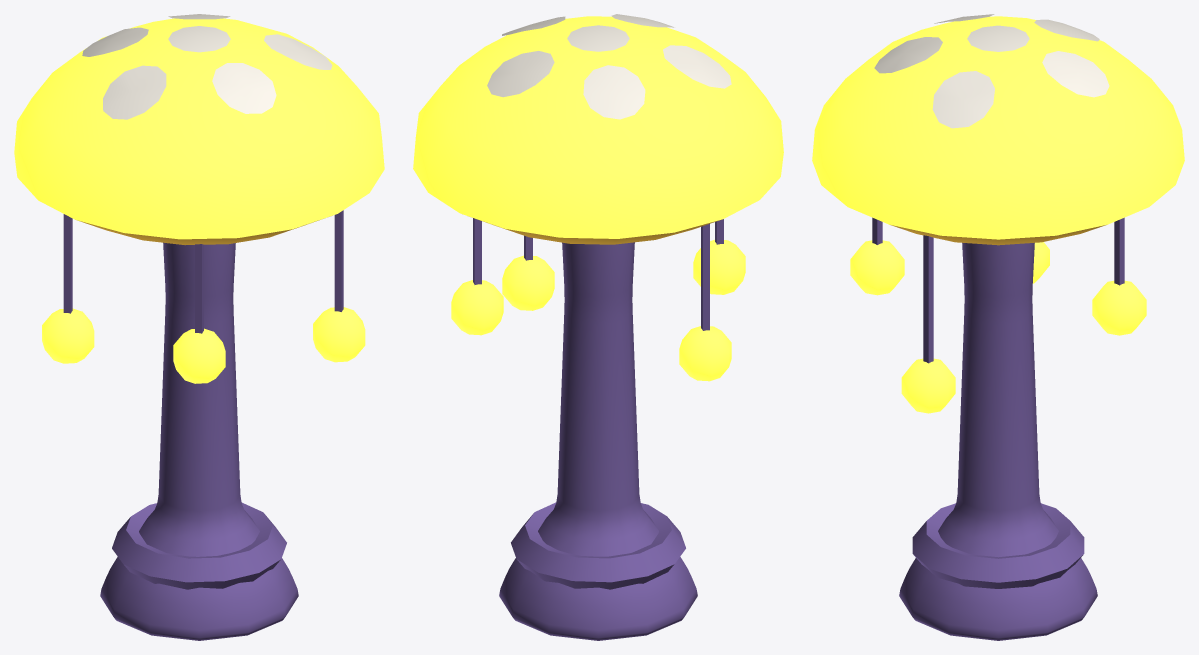
The model's file is firefly_lamp.glb.
The picture shows the model from 3 angles, left to right: view 1: azimuth 30°, elevation 25°; view 2: azimuth 150°, elevation 25°; view 3: azimuth 270°, elevation 25°; orthographic projection.
Parts seen in each view (by area): view 1: firefly_lamp; view 2: firefly_lamp; view 3: firefly_lamp.
Boxes of the visible parts, box(x1,y1,x2,y2) form: firefly_lamp: box(14, 14, 384, 640); firefly_lamp: box(413, 14, 783, 640); firefly_lamp: box(812, 14, 1184, 640).
Size of the model in its own units: 0.72 by 1.21 by 0.72.
